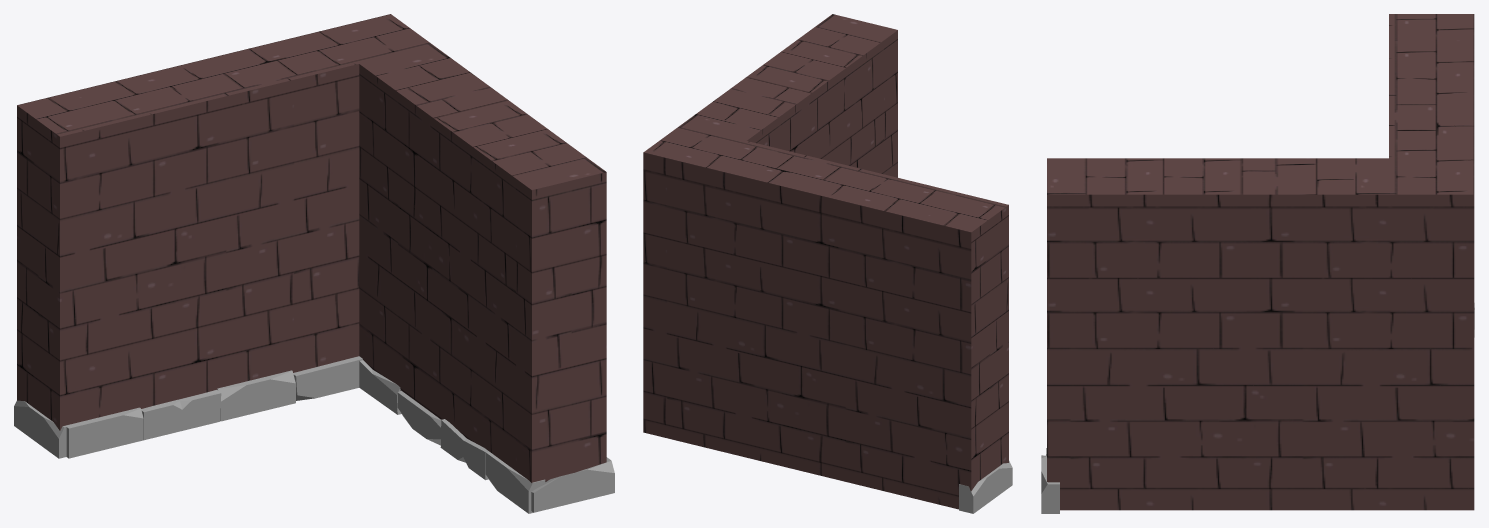
Rendered from MuriL_wall 1.fbx.
3 renders of one model, left to right at view 1: azimuth 30°, elevation 25°; view 2: azimuth 150°, elevation 25°; view 3: azimuth 270°, elevation 25°, orthographic. The views are drawn at different scales.
Parts seen in each view (by area): view 1: L_wall; view 2: L_wall; view 3: L_wall.
Boxes of the visible parts, x1,y1,x2,y2 form: L_wall: (14, 14, 614, 513); L_wall: (643, 14, 1012, 513); L_wall: (1041, 14, 1474, 513).
Bounding box in the file's own units: 511 × 412 × 507.
Materials: 2 (1 with a texture image).
